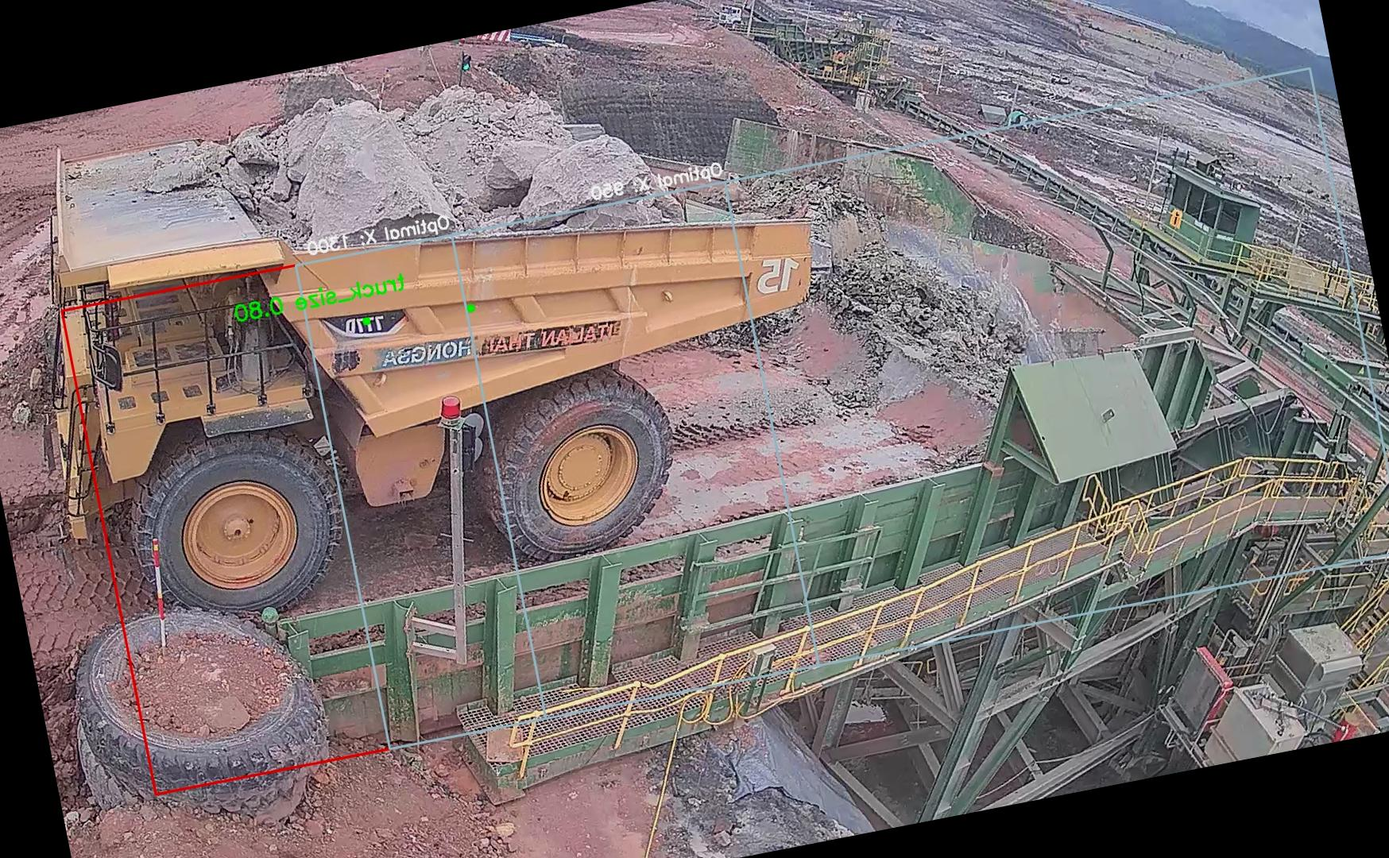company: (349, 290, 636, 390)
full_load: (209, 46, 675, 305)
mining_truck: (0, 0, 869, 662)
tail_number: (740, 238, 815, 313)
truck_size: (320, 298, 416, 346)
